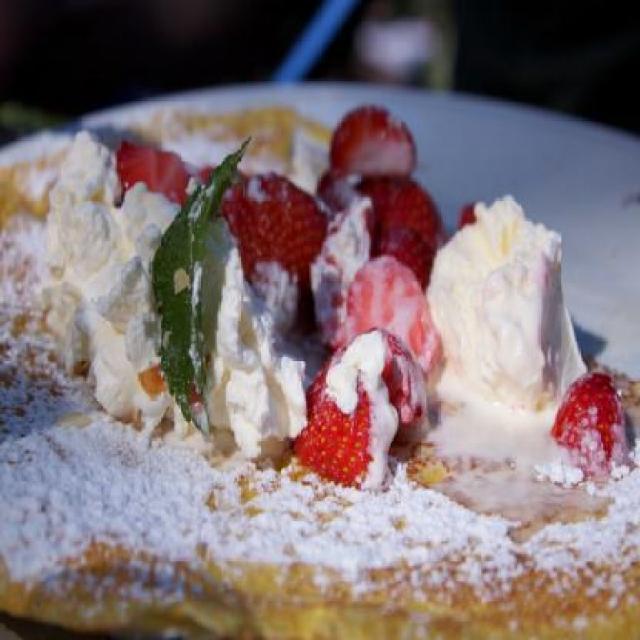Strawberry: (301, 352, 393, 488), (342, 258, 440, 380), (229, 171, 325, 289), (550, 351, 626, 495), (309, 198, 377, 354), (340, 329, 426, 437), (346, 171, 444, 251), (327, 98, 416, 182), (116, 137, 192, 209), (370, 222, 436, 286), (198, 164, 234, 236)
